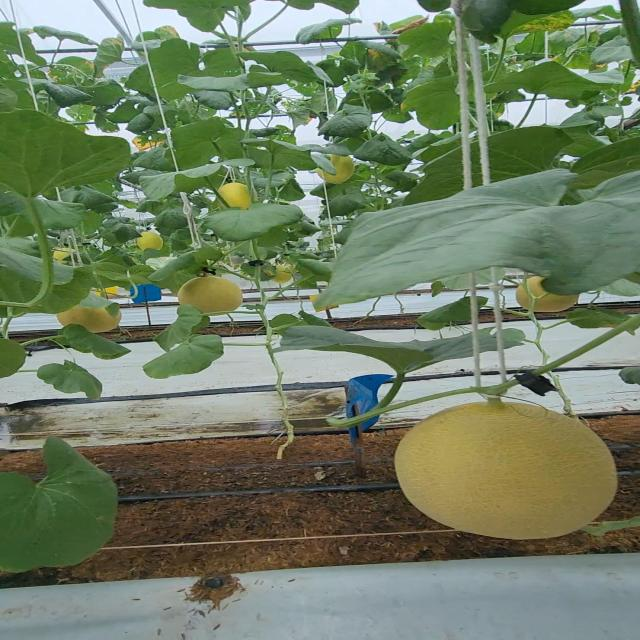Front-melon: (391, 402, 620, 536)
Rear-melon: (182, 277, 243, 311)
